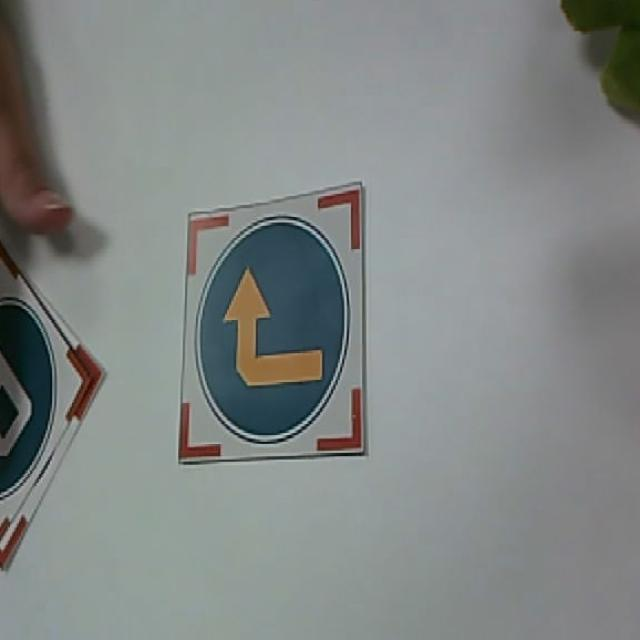parking: (0, 249, 107, 558)
turn: (167, 196, 367, 461)
